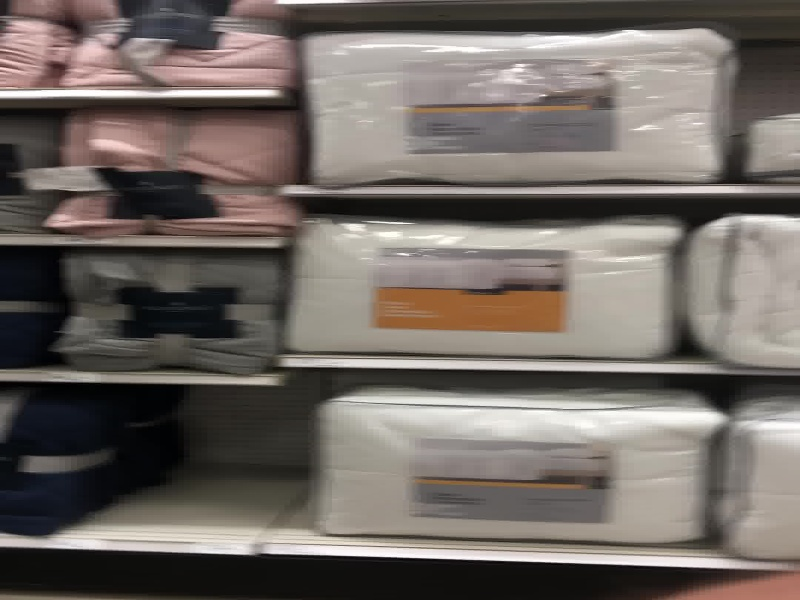empty_shelf_space: (89, 379, 316, 535)
